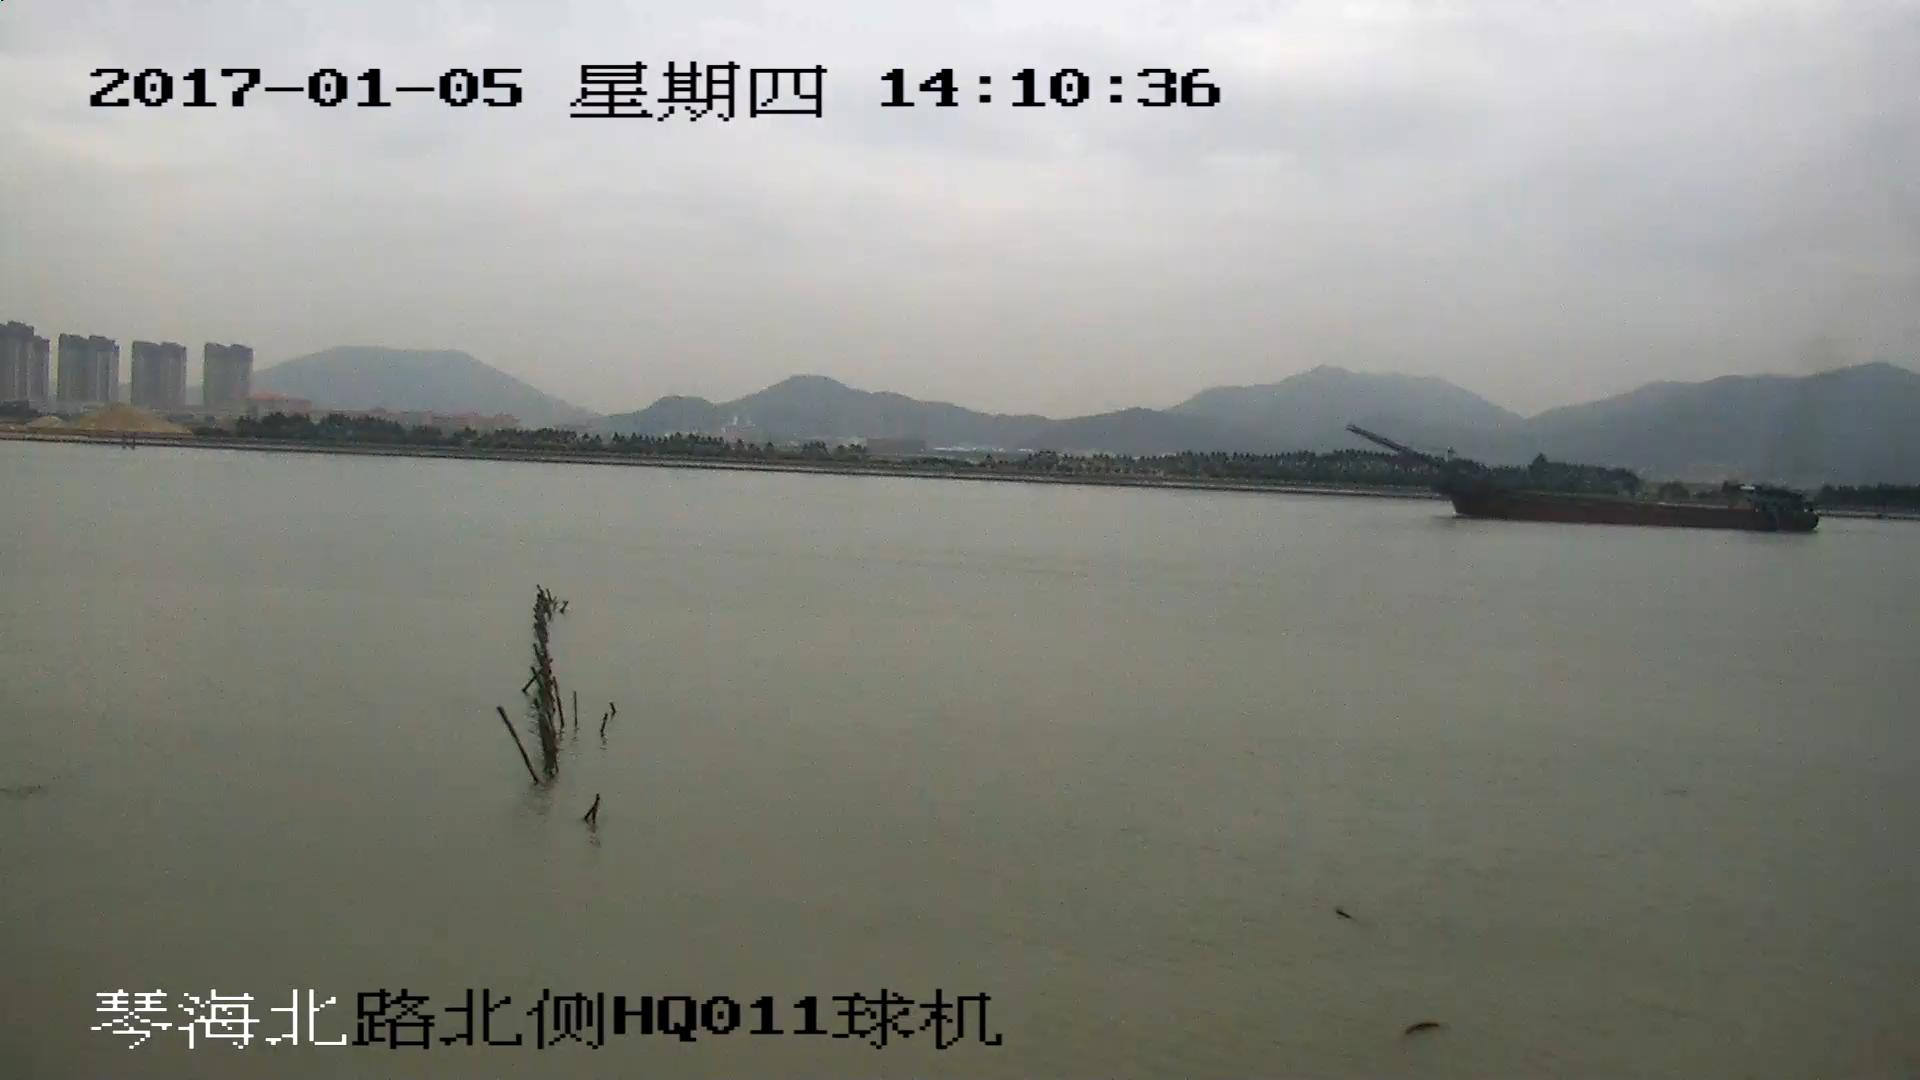bulk cargo carrier: (1348, 426, 1815, 532)
